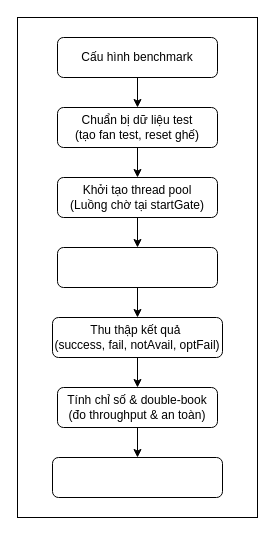
Image size: 275x535. Some labels were removed from this diagram. The shapes that lost their labels are listed below. From the top down, each one's box as (x1, y1, x2, y2) in pixels, then its label:
(56, 246, 218, 288): Đông loạt bung latch (Mỗi luồng gọi bookTicket())
(52, 456, 222, 498): Ghi benmark_results.csv (ghi kết quả, 1 dòng/lần chạy)
